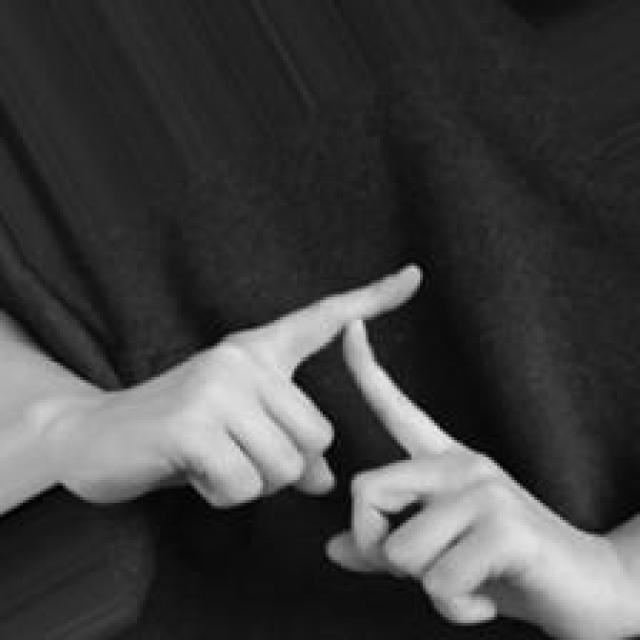T: (69, 257, 621, 640)
